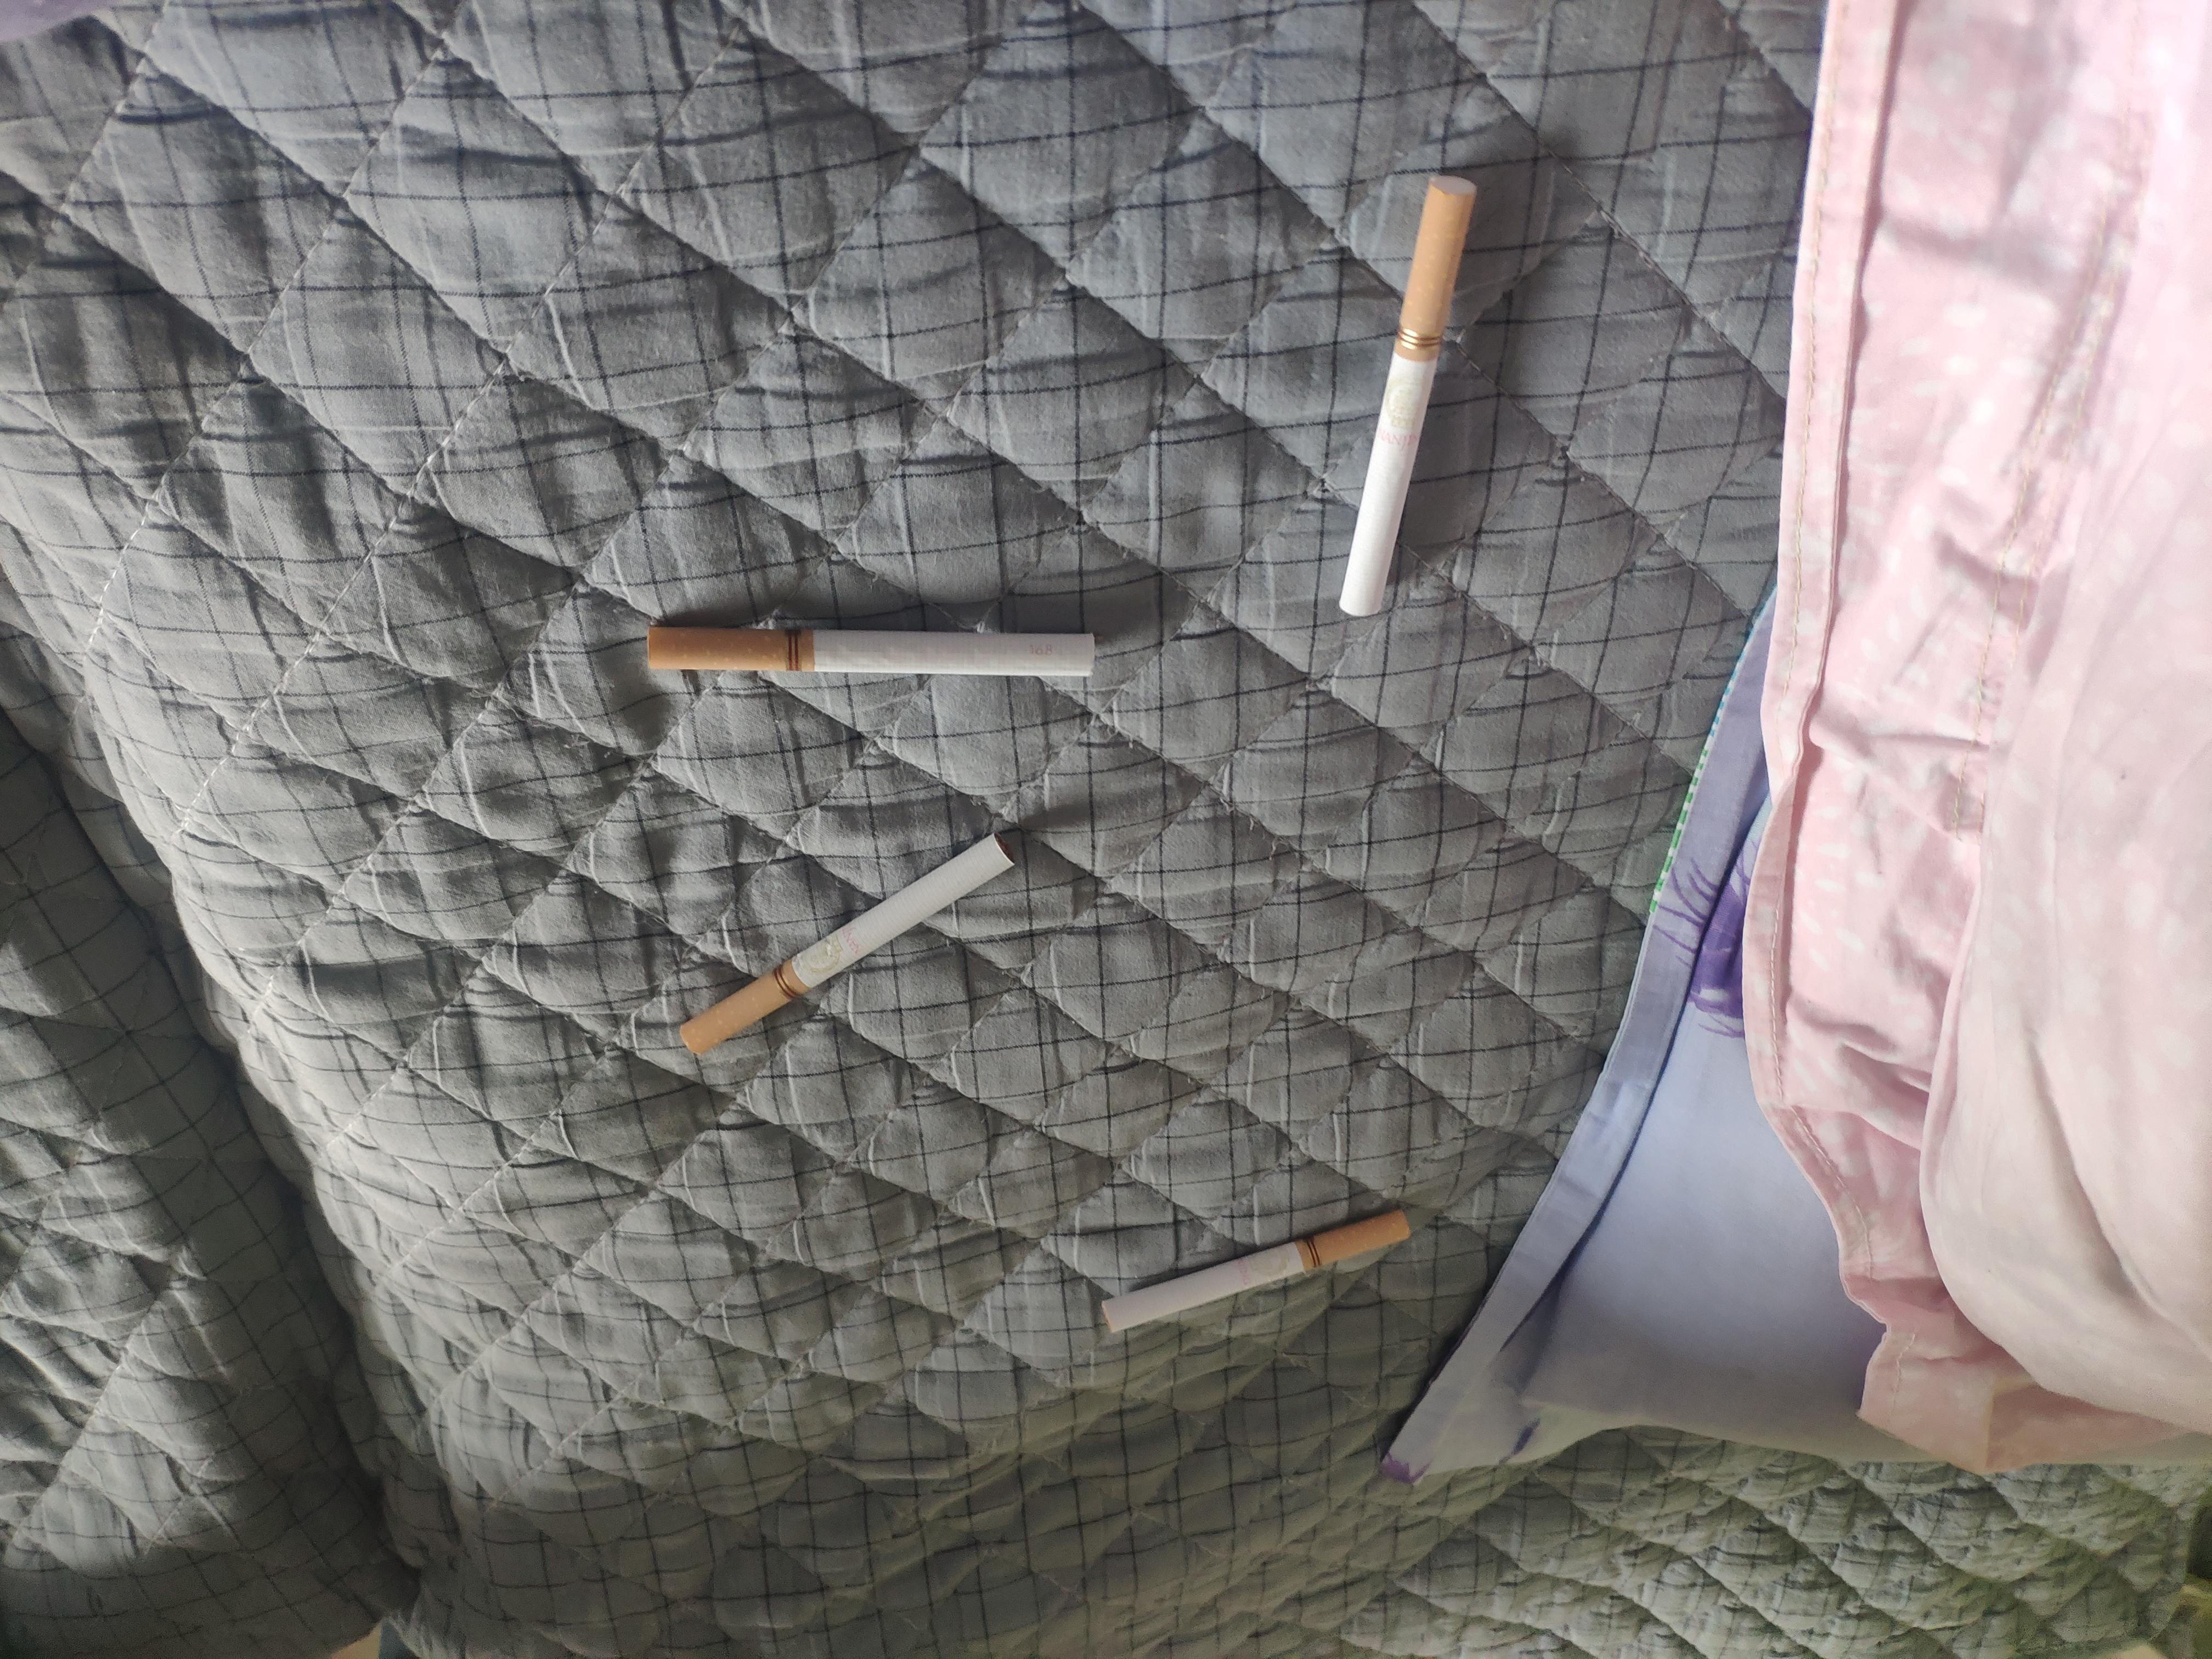smoke: (1200, 605, 1536, 828), (735, 1042, 873, 1486), (801, 328, 1113, 450), (1116, 983, 1568, 1033)
